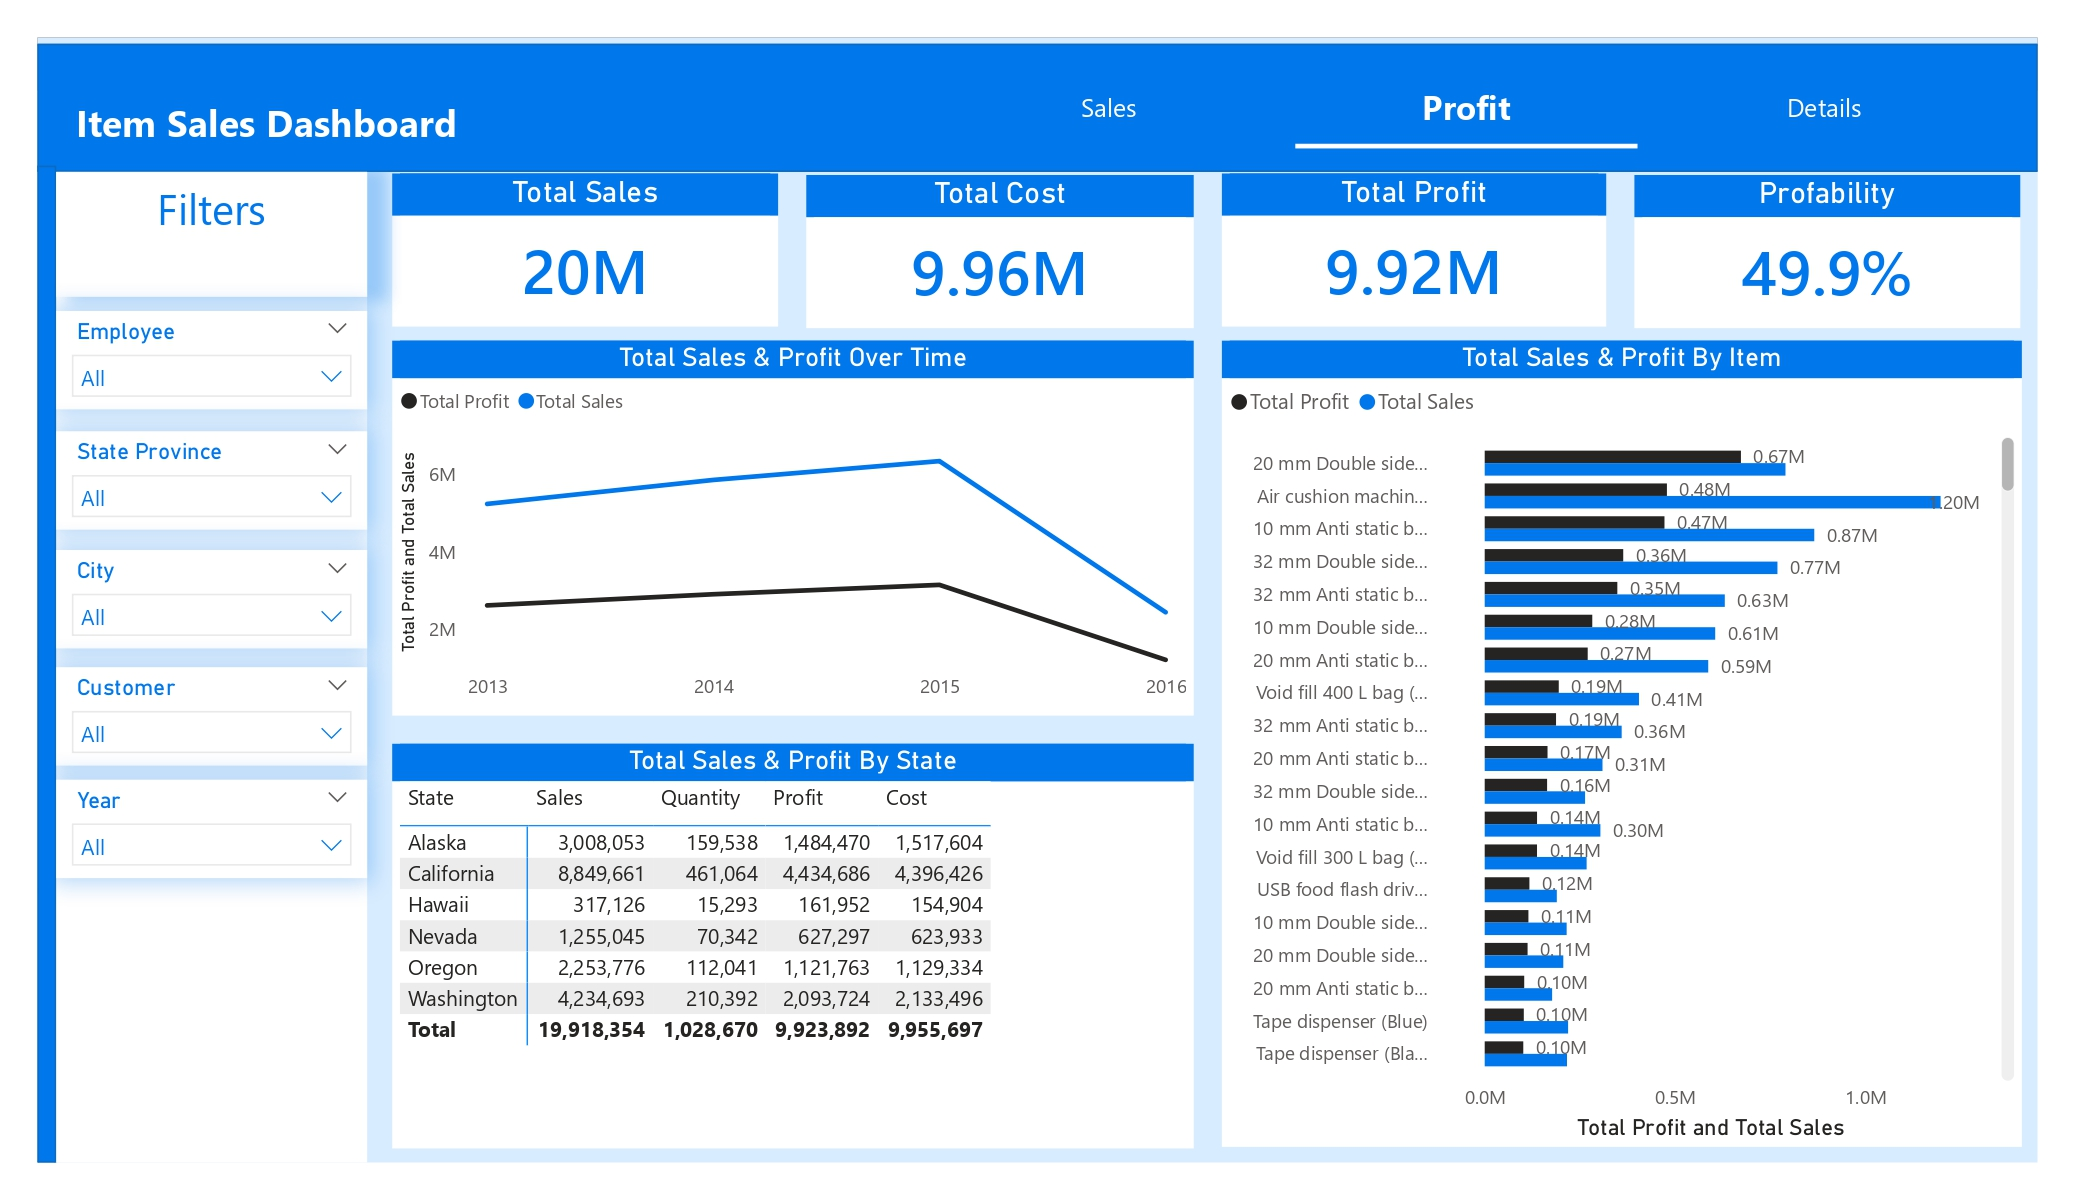

This screenshot's page, from the dashboard's own definition file:
{"tool":"powerbi","page":{"name":"Profit","canvas":[1280,720],"ordinal":7},"visuals":[{"type":"shape","box":[0,3.6,1280,82],"z":0},{"type":"shape","box":[0,82,12.1,638.2],"z":1000},{"type":"shape","box":[12.1,85.7,199.1,634.6],"z":2000},{"type":"textbox","box":[12.1,32.6,269,49.5],"z":3000},{"type":"cardVisual","title":"Total Sales","fields":{"Data":["FactSale.Total Sales"]},"box":[227.4,87.5,246.4,97.7],"z":4000},{"type":"cardVisual","title":"Total Cost","fields":{"Data":["FactSale.Total Cost"]},"box":[492.2,88.1,247.3,97.7],"z":5000},{"type":"cardVisual","title":"Total Profit","fields":{"Data":["Sum(FactSale.Profit)"]},"box":[758.1,87.5,246.4,97.7],"z":6000},{"type":"cardVisual","title":"Profability","fields":{"Data":["FactSale.Profability"]},"box":[1021.9,88.1,247.3,97.7],"z":7000},{"type":"textbox","box":[12.1,85.7,199.1,80.8],"z":8000},{"type":"lineChart","title":"Total Sales & Profit Over Time","fields":{"Category":["DimDate.Date.Variation.Date Hierarchy.Year","DimDate.Date.Variation.Date Hierarchy.Quarter","DimDate.Date.Variation.Date Hierarchy.Month","DimDate.Date.Variation.Date Hierarchy.Day"],"Y":["Sum(FactSale.Profit)","FactSale.Total Sales"]},"box":[226.8,194.2,512.7,240.1],"z":9000},{"type":"clusteredBarChart","title":"Total Sales & Profit By Item","fields":{"Category":["FactSale.Stock Item Name"],"Y":["Sum(FactSale.Profit)","FactSale.Total Sales"]},"box":[758.1,193.9,511.7,516.1],"z":10000},{"type":"pivotTable","title":"Total Sales & Profit By State","fields":{"Rows":["DimCity.State Province"],"Values":["FactSale.Total Sales","Sum(FactSale.Quantity)","Sum(FactSale.Profit)","FactSale.Total Cost"]},"box":[226.8,452.4,512.7,258.2],"z":11000},{"type":"slicer","fields":{"Values":["DimEmployee.Employee"]},"box":[12.1,174.9,199.1,62.7],"z":12000},{"type":"slicer","fields":{"Values":["DimCity.State Province"]},"box":[12.1,252.1,199.1,62.7],"z":13000},{"type":"slicer","fields":{"Values":["DimCity.City"]},"box":[12.1,328.2,199.1,62.7],"z":14000},{"type":"slicer","fields":{"Values":["DimCustomer.Customer"]},"box":[12.1,403,199.1,62.7],"z":15000},{"type":"slicer","fields":{"Values":["DimDate.Fiscal Year"]},"box":[11.7,475.3,199.7,62.7],"z":16000},{"type":"pageNavigator","box":[575.9,17.5,677.9,53.9],"z":16001}]}

Visuals, with their boxes on the page's 1280x720 design canvas (x1, y1, x2, y2). These are canvas units, not pixel positions in the 2075x1200 screenshot, which may show the page scaled, cropped or inside an application window:
shape: select_region(0, 4, 1280, 86)
shape: select_region(0, 82, 12, 720)
shape: select_region(12, 86, 211, 720)
textbox: select_region(12, 33, 281, 82)
"Total Sales" cardVisual: select_region(227, 88, 474, 185)
"Total Cost" cardVisual: select_region(492, 88, 740, 186)
"Total Profit" cardVisual: select_region(758, 88, 1004, 185)
"Profability" cardVisual: select_region(1022, 88, 1269, 186)
textbox: select_region(12, 86, 211, 166)
"Total Sales & Profit Over Time" lineChart: select_region(227, 194, 740, 434)
"Total Sales & Profit By Item" clusteredBarChart: select_region(758, 194, 1270, 710)
"Total Sales & Profit By State" pivotTable: select_region(227, 452, 740, 711)
slicer - DimEmployee.Employee: select_region(12, 175, 211, 238)
slicer - DimCity.State Province: select_region(12, 252, 211, 315)
slicer - DimCity.City: select_region(12, 328, 211, 391)
slicer - DimCustomer.Customer: select_region(12, 403, 211, 466)
slicer - DimDate.Fiscal Year: select_region(12, 475, 211, 538)
pageNavigator: select_region(576, 18, 1254, 71)
